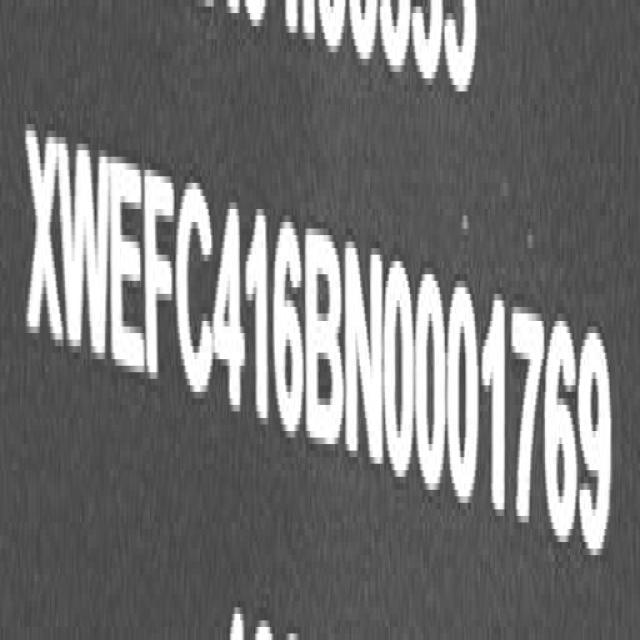0: (447, 271, 481, 511), (417, 258, 448, 501), (386, 247, 417, 486)
1: (482, 284, 507, 521), (246, 195, 268, 429)
4: (214, 188, 246, 424)
6: (546, 305, 580, 548), (272, 206, 305, 442)
7: (512, 290, 542, 546)
9: (581, 314, 613, 560)
B: (306, 218, 346, 458)
C: (178, 168, 216, 409)
E: (110, 140, 145, 393)
F: (144, 150, 177, 405)
N: (343, 230, 385, 493)
W: (60, 117, 110, 379)
X: (23, 104, 62, 363)
